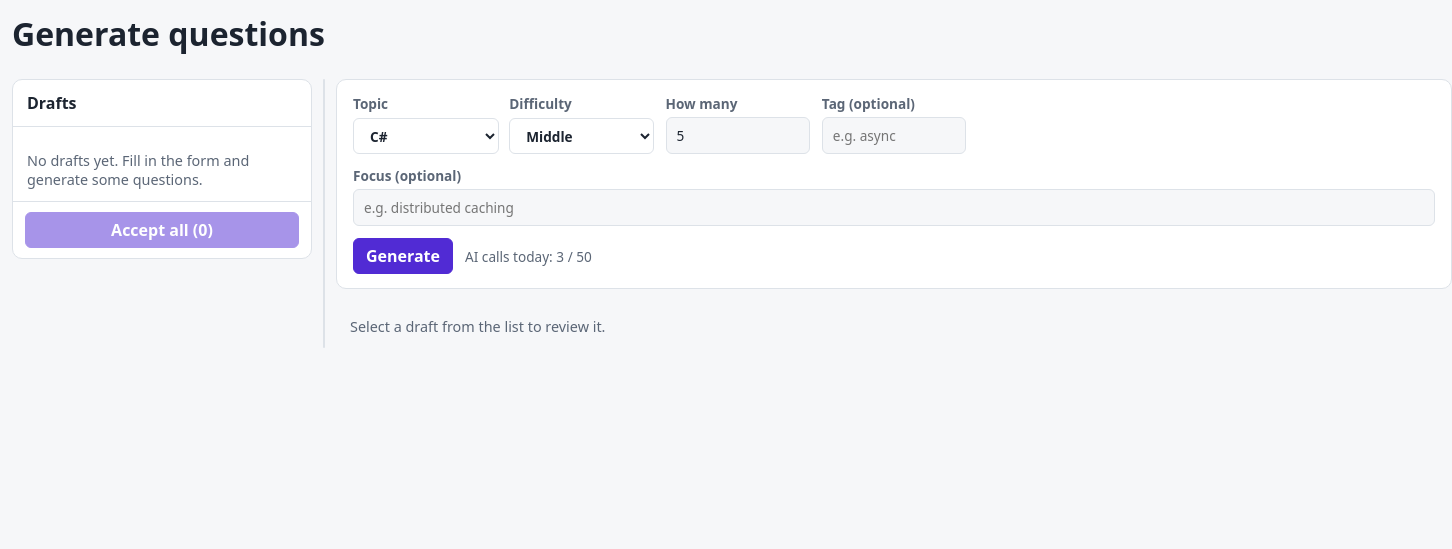
GenerateQuestionsPage › reviewing Drafts › discards a Draft with the red cross and moves on to the next one
Click the button "Generate". click: [403, 256]
box: [353,238,453,274]
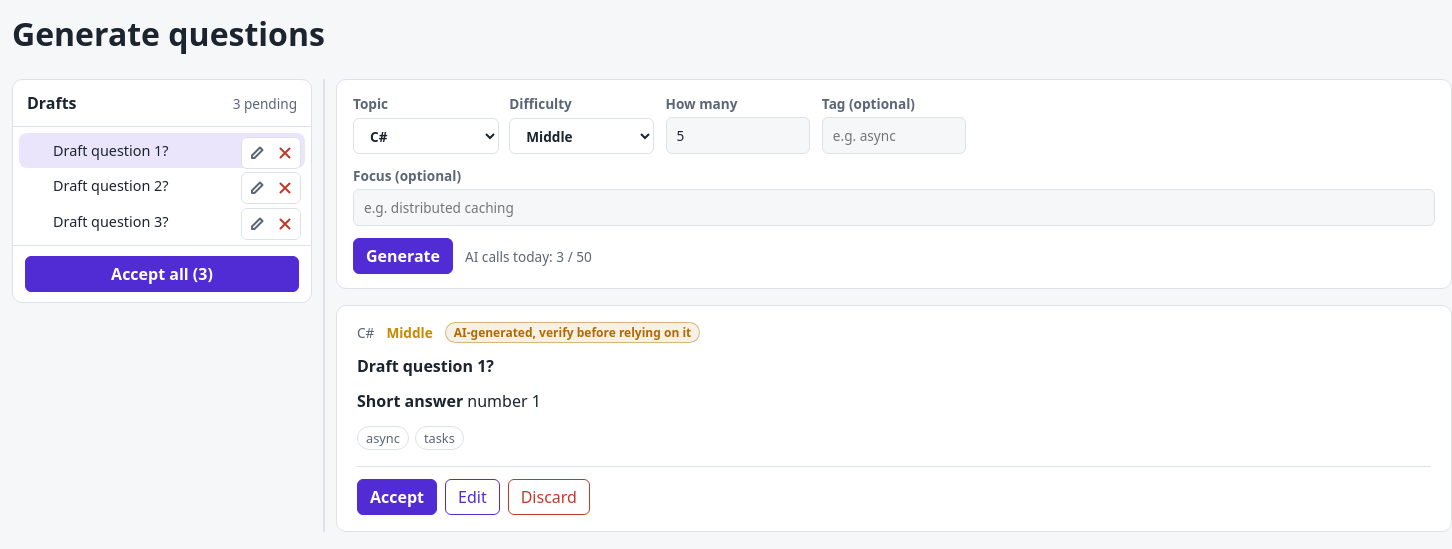
Check: the button named "Edit draft: Draft question 1?" is shown, box [244,140,270,166]
Click the button named "Discard draft: Draft question 1?". click: [285, 153]
box: [272,140,298,166]
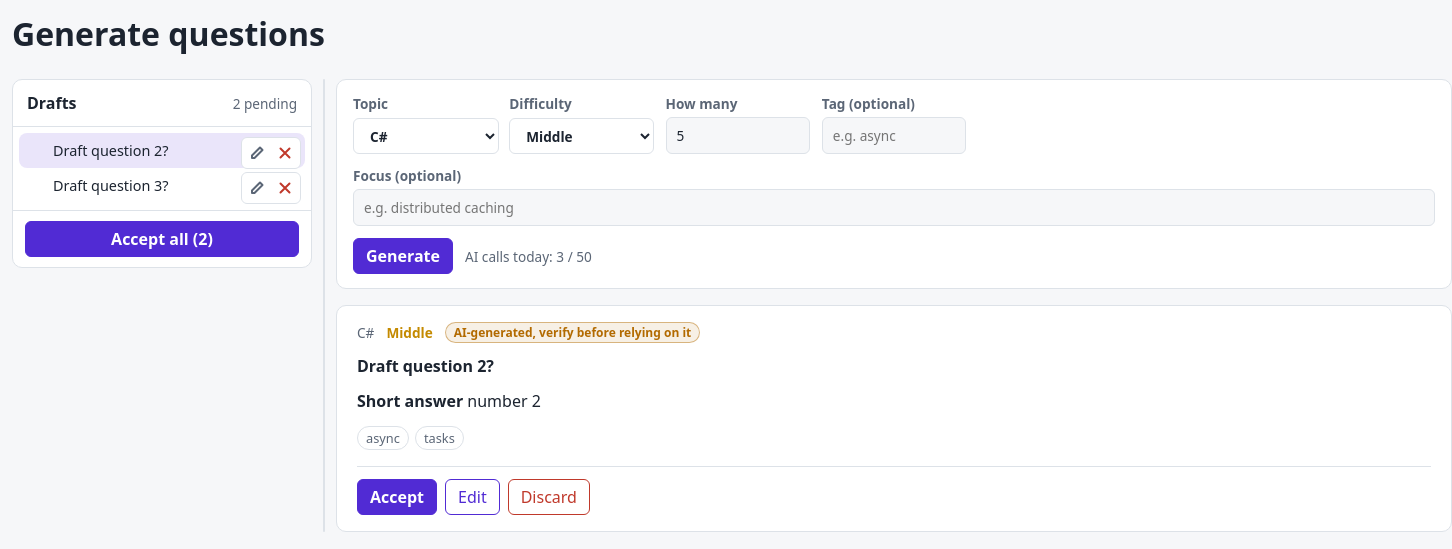
Check: the text "Draft question 2?" below "C#" is shown, box [357,355,494,377]
Check: the button "Draft question 1?" is gone
Check: the button "Accept all (2)" is shown, box [25,221,299,257]
